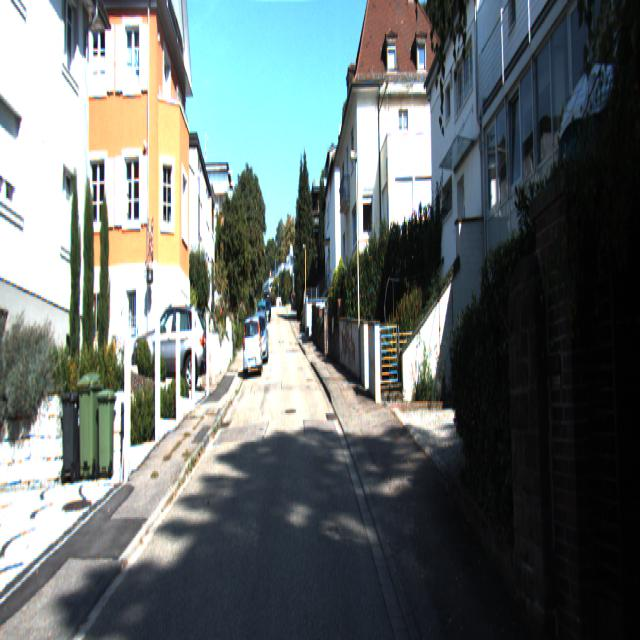Car: (137, 298, 210, 391), (242, 316, 264, 382), (248, 312, 269, 367)
